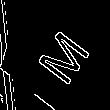M_NW: (22, 16, 88, 83)
